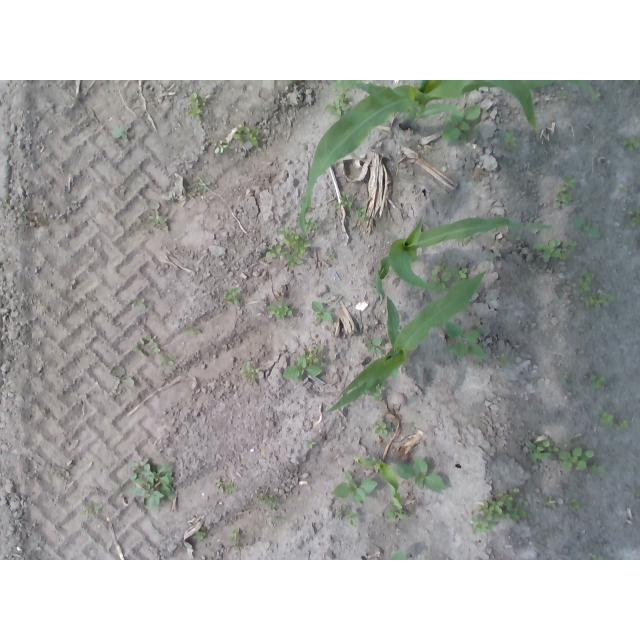Maize: (298, 80, 602, 232), (325, 250, 500, 415), (371, 216, 556, 304), (352, 455, 402, 511), (384, 549, 408, 560)
Weeds: (130, 456, 177, 511), (396, 457, 446, 491), (480, 487, 528, 522), (444, 320, 485, 359), (331, 471, 378, 504), (443, 105, 482, 143), (130, 334, 174, 366), (282, 346, 322, 380), (432, 261, 469, 292), (559, 438, 594, 470), (277, 225, 312, 255), (534, 239, 579, 262), (527, 433, 559, 464), (552, 176, 577, 209), (265, 246, 303, 267), (580, 291, 616, 310), (186, 93, 210, 120), (234, 125, 260, 148), (575, 218, 603, 239), (325, 91, 349, 115), (110, 365, 135, 388), (311, 300, 334, 324), (146, 202, 166, 227), (253, 493, 280, 511), (472, 517, 497, 536), (576, 267, 594, 293), (267, 302, 293, 319), (338, 506, 360, 526), (386, 504, 407, 523), (215, 477, 237, 495), (366, 383, 386, 402), (335, 191, 354, 210), (240, 361, 259, 379), (225, 287, 244, 305), (191, 175, 210, 193), (365, 338, 384, 355), (502, 130, 518, 150), (622, 134, 640, 151), (590, 372, 607, 389), (110, 123, 128, 139), (374, 421, 391, 436), (599, 410, 614, 426), (355, 206, 369, 222), (589, 462, 606, 475), (629, 208, 640, 228), (85, 503, 103, 515), (229, 528, 242, 544), (213, 141, 227, 155), (304, 217, 317, 232), (498, 354, 514, 366), (131, 297, 146, 309), (569, 498, 582, 511), (192, 531, 204, 542), (619, 419, 630, 430), (304, 440, 317, 448), (591, 92, 601, 101), (548, 497, 556, 508), (592, 553, 604, 560), (557, 91, 567, 99), (505, 233, 516, 240), (186, 326, 195, 334), (458, 237, 470, 243), (447, 196, 456, 204), (560, 374, 568, 382), (329, 252, 337, 260), (619, 188, 629, 192)
